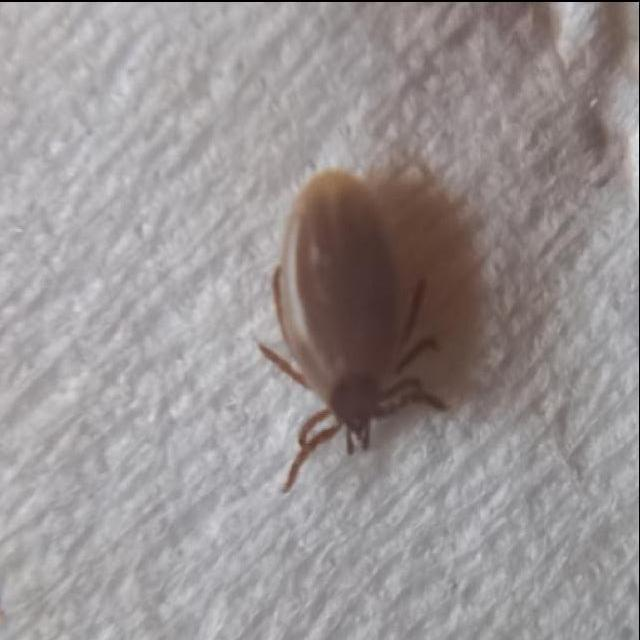Ixodes Ricinus-F-Fed: (261, 179, 448, 493)
